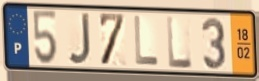3: (200, 15, 227, 72)
5: (31, 9, 59, 67)
7: (98, 12, 127, 67)
J: (66, 11, 92, 67)
L: (165, 14, 195, 70), (133, 14, 161, 67)
